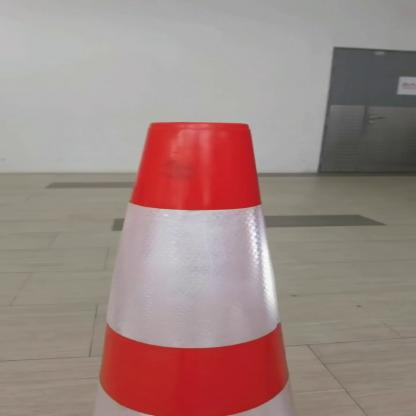cone: (53, 106, 328, 415)
